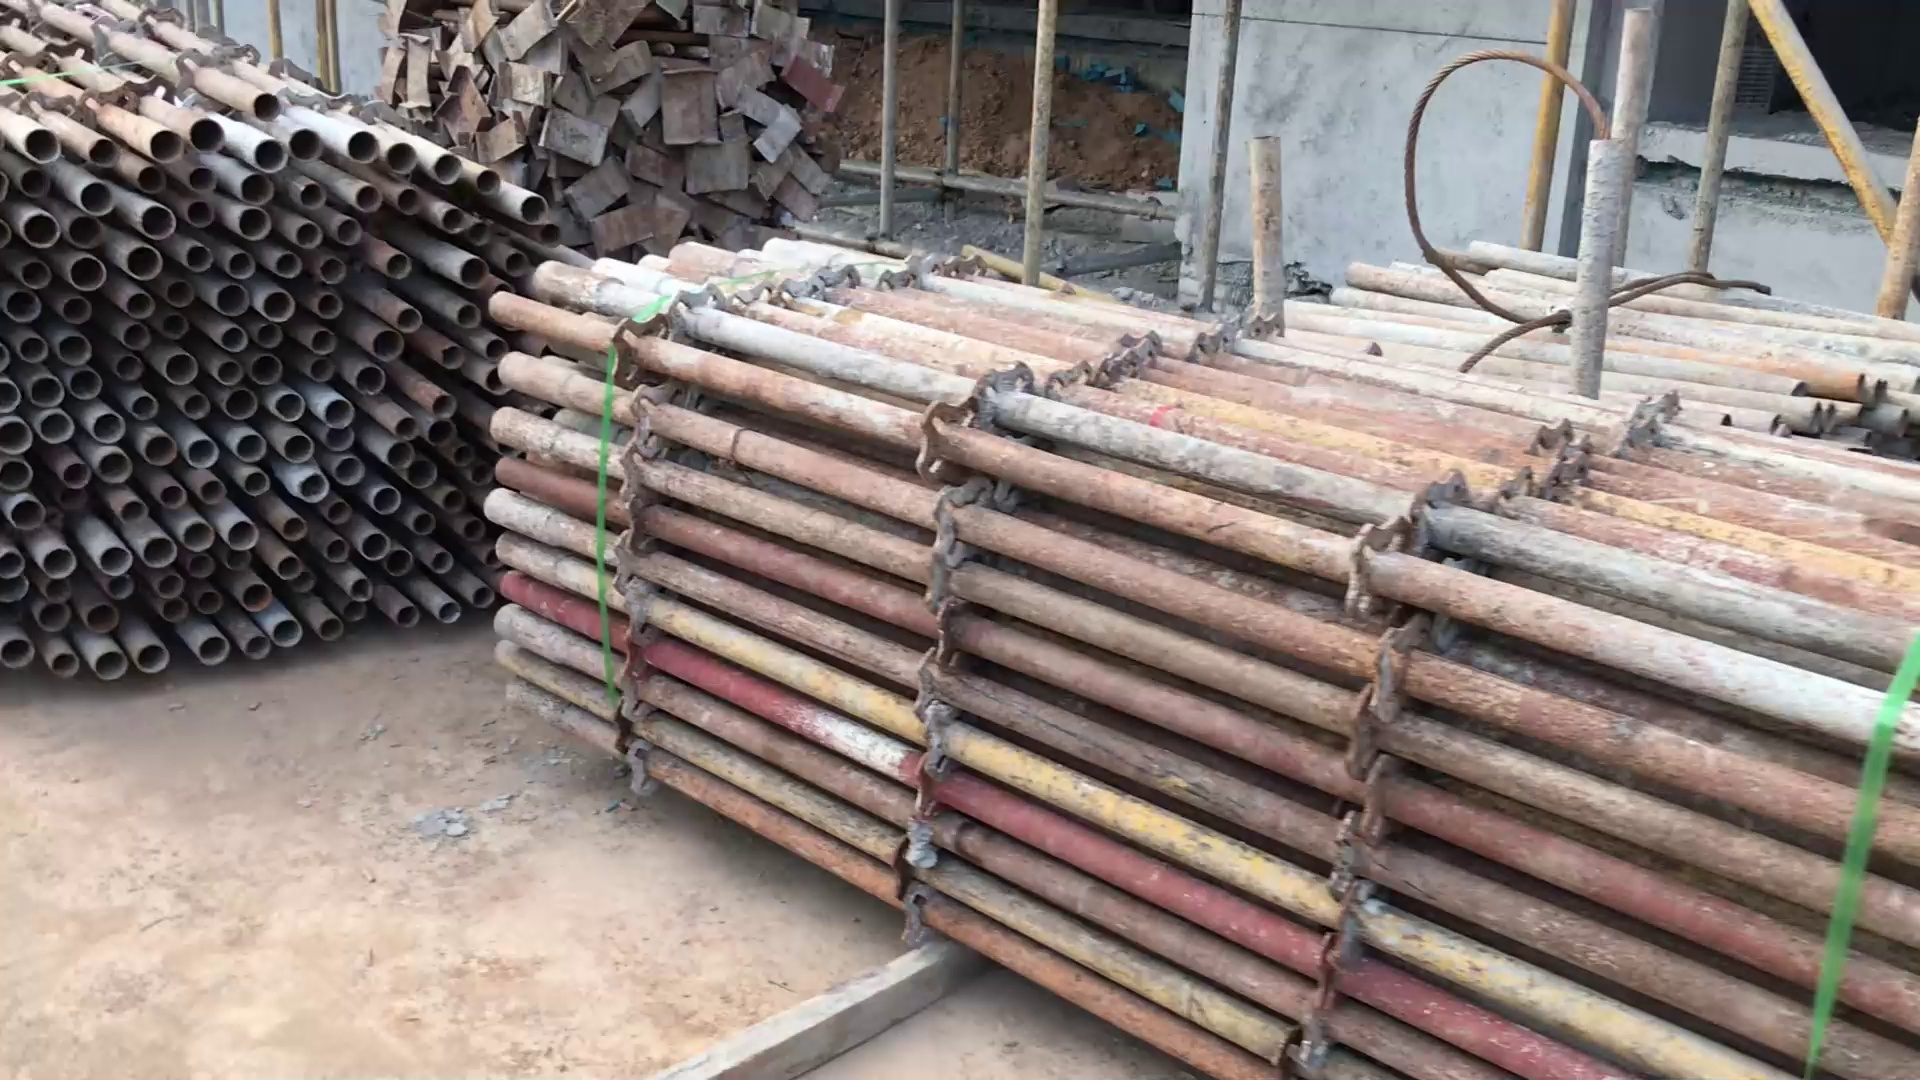scaffold: (487, 224, 1919, 1073), (1, 4, 574, 671), (1267, 196, 1920, 465)
